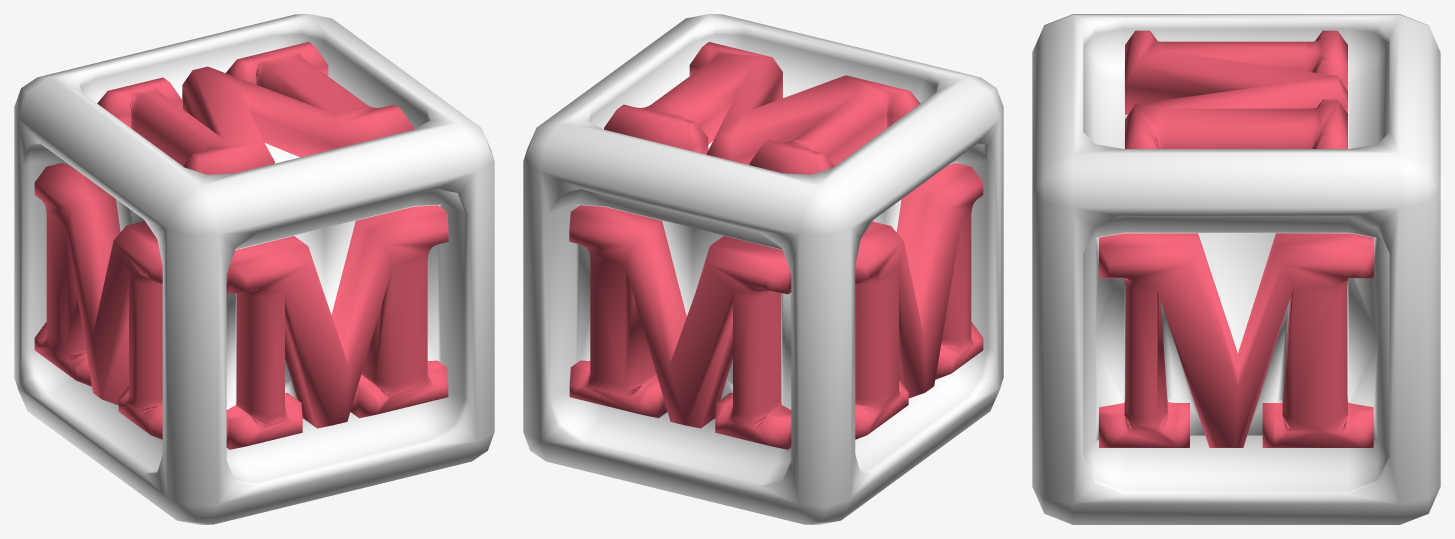
The picture shows the model from 3 angles, left to right: view 1: azimuth 30°, elevation 25°; view 2: azimuth 150°, elevation 25°; view 3: azimuth 270°, elevation 25°; orthographic projection. The views are drawn at different scales.
Visible parts, largest first — view 1: obj_0; view 2: obj_0; view 3: obj_0.
Boxes of the visible parts, <box> form: obj_0: <box>14,14,494,524</box>; obj_0: <box>523,14,1003,524</box>; obj_0: <box>1032,14,1440,524</box>.
Size of the model in its own units: 100 by 100 by 100.
